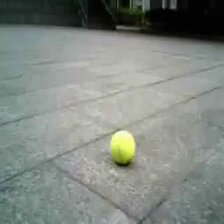tennis: (108, 131, 137, 164)
